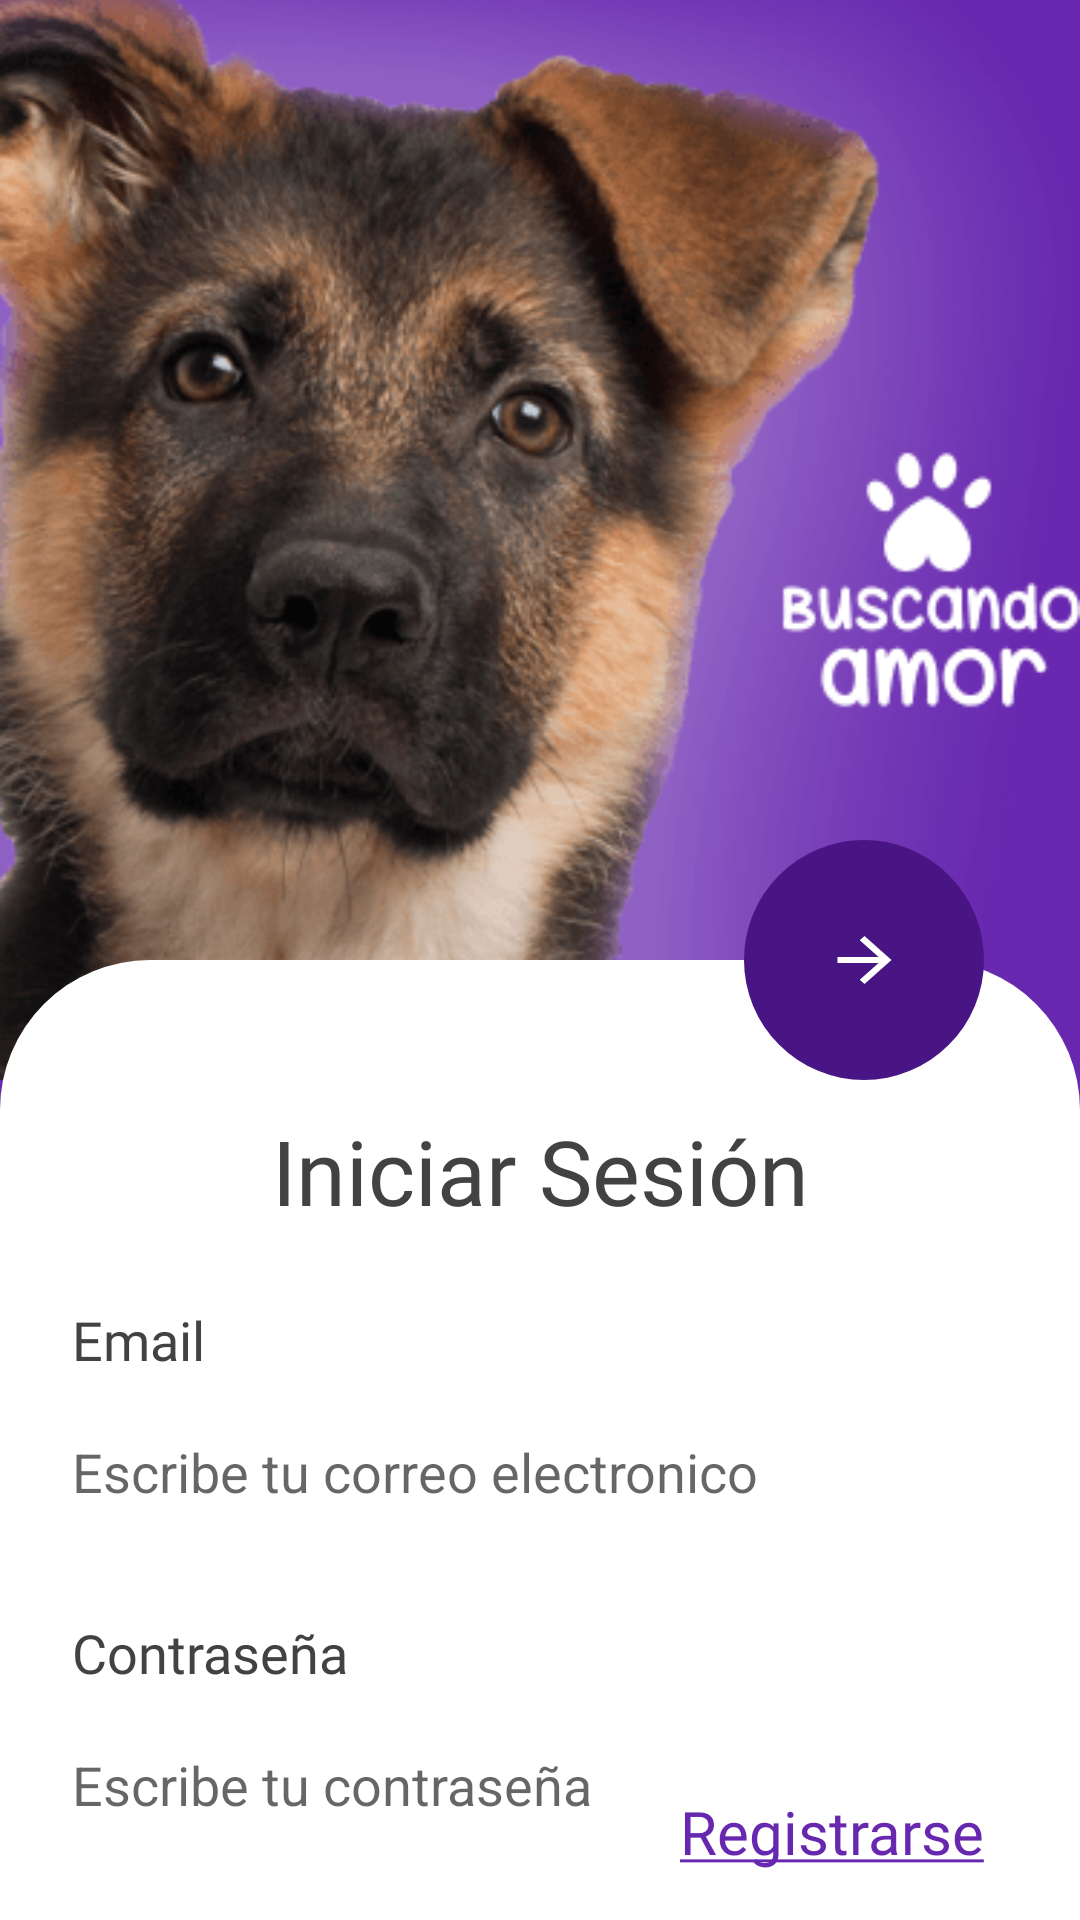

Where to tap for icons on this 1080 x 1920 app screen, as (x,y):
arrow: (864,960)
